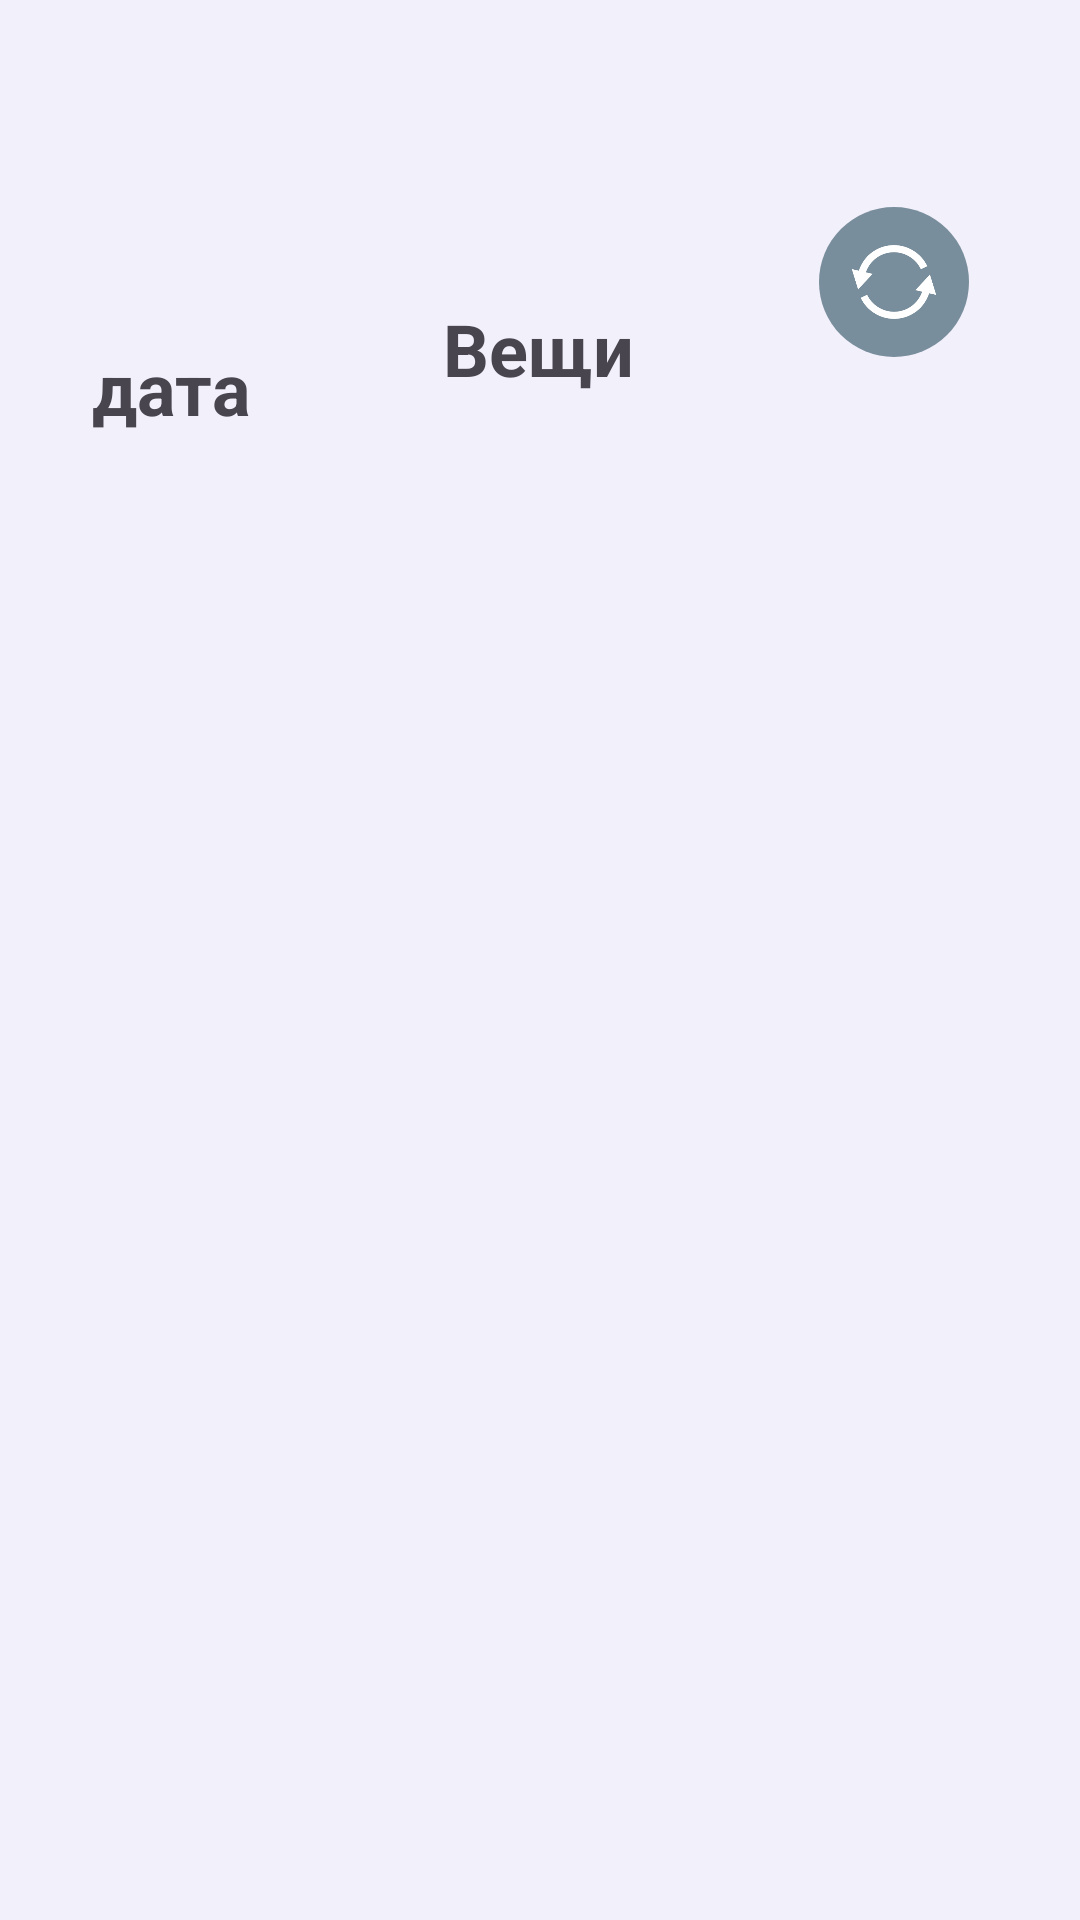

Icon bounding boxes for this 1080*1920 phone screenshot, format (x1, y1, x2, y2):
refresh: (852, 245, 936, 319)
